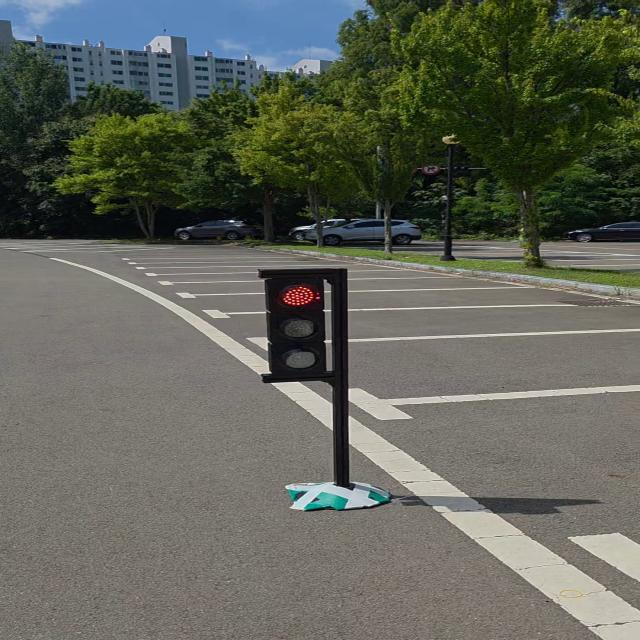red: (261, 270, 330, 378)
